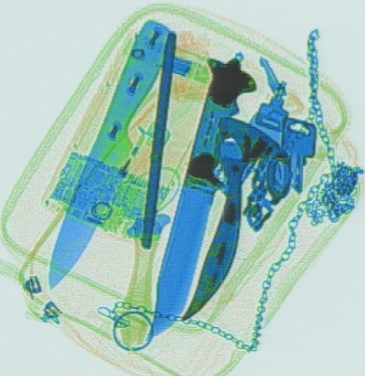knife: (42, 17, 175, 298), (147, 51, 256, 340), (182, 111, 286, 325)
lighter: (106, 117, 161, 201)
